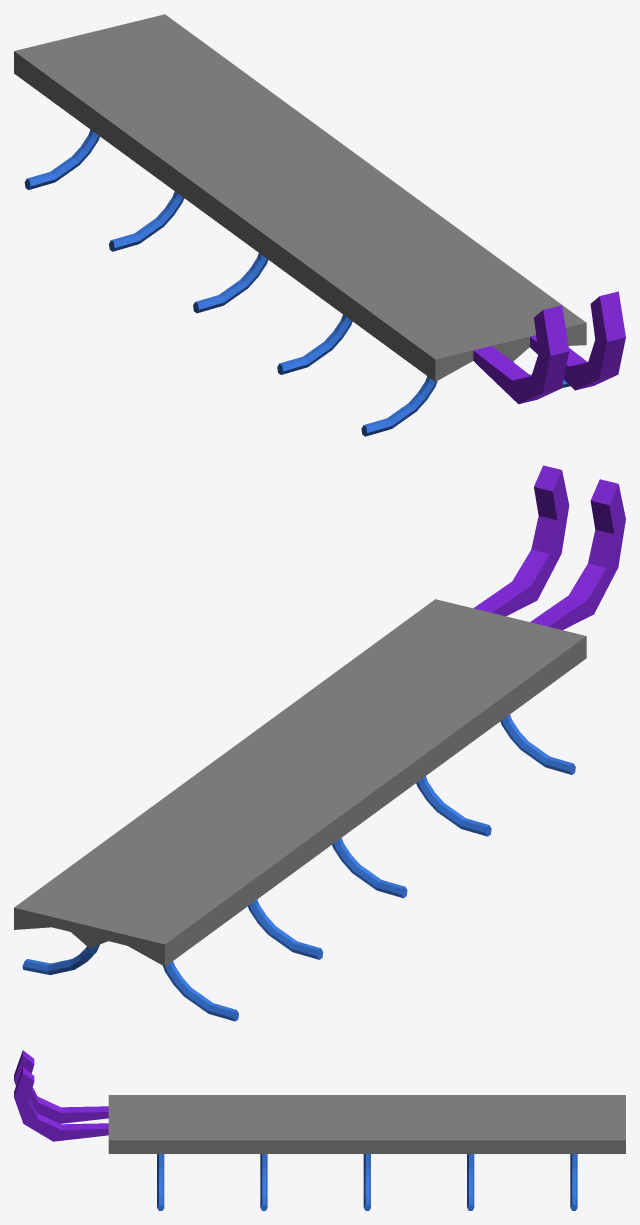
File: bugv2.fbx
3 views of the same model, one above another, from view 1: azimuth 30°, elevation 25°; view 2: azimuth 150°, elevation 25°; view 3: azimuth 270°, elevation 25° (orthographic). The views are drawn at different scales.
Parts seen in each view (by area): view 1: Cube, buglegs; view 2: Cube, buglegs; view 3: Cube, buglegs.
Part boxes in pixels (left/top/right/bottom): Cube: left=14, top=14, right=625, bottom=404; buglegs: left=24, top=129, right=570, bottom=436; Cube: left=14, top=465, right=625, bottom=966; buglegs: left=22, top=714, right=575, bottom=1021; Cube: left=14, top=1050, right=625, bottom=1153; buglegs: left=157, top=1154, right=577, bottom=1210.
Size of the model in its own units: 291 by 251 by 1185.
